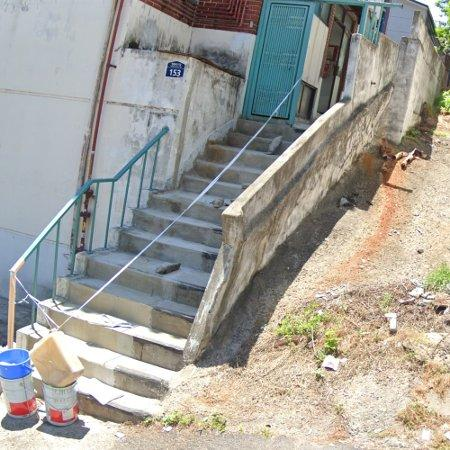stairs: (62, 125, 302, 422), (42, 119, 262, 324)
